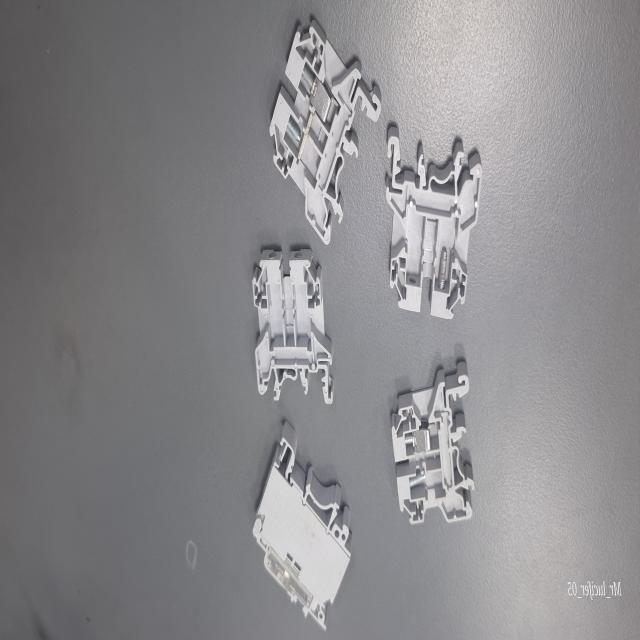Reject: (267, 0, 382, 253), (380, 114, 486, 322), (247, 219, 340, 413), (390, 362, 478, 538)
